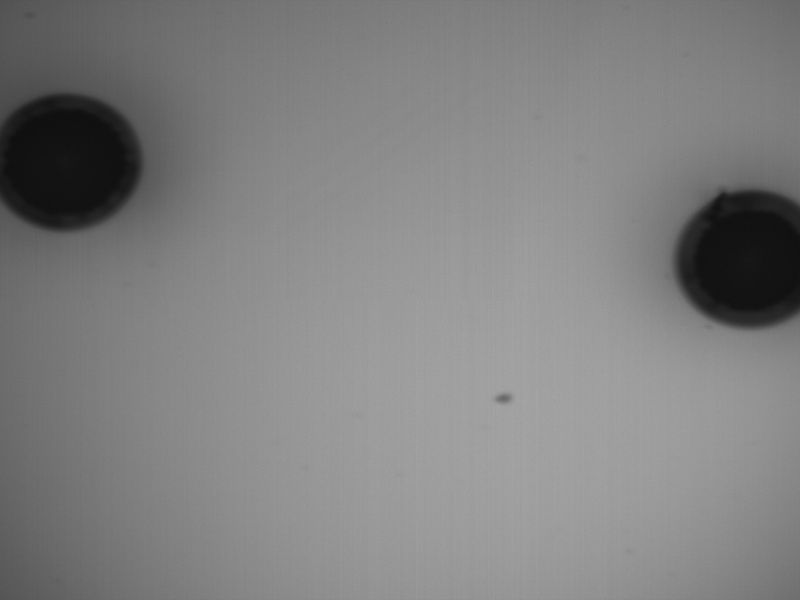bead: (1, 89, 144, 231), (673, 188, 800, 330)
